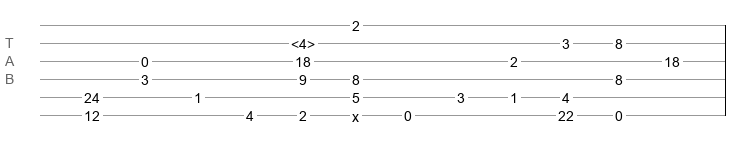0: (141, 54, 149, 64), (404, 108, 412, 118), (615, 108, 623, 118)
1: (194, 90, 202, 100), (510, 90, 518, 100)
12: (84, 108, 100, 118)
18: (295, 54, 311, 64), (664, 54, 680, 64)
2: (299, 108, 307, 118), (352, 18, 360, 28), (510, 54, 518, 64)
22: (558, 108, 574, 118)
24: (84, 90, 100, 100)
3: (141, 72, 149, 82), (457, 90, 465, 100), (562, 36, 570, 46)
4: (246, 108, 254, 118), (562, 90, 570, 100)
5: (352, 90, 360, 100)
8: (352, 72, 360, 82), (615, 36, 623, 46), (615, 72, 623, 82)
9: (299, 72, 307, 82)
harmonic: (291, 36, 315, 46)
x: (352, 109, 359, 117)
